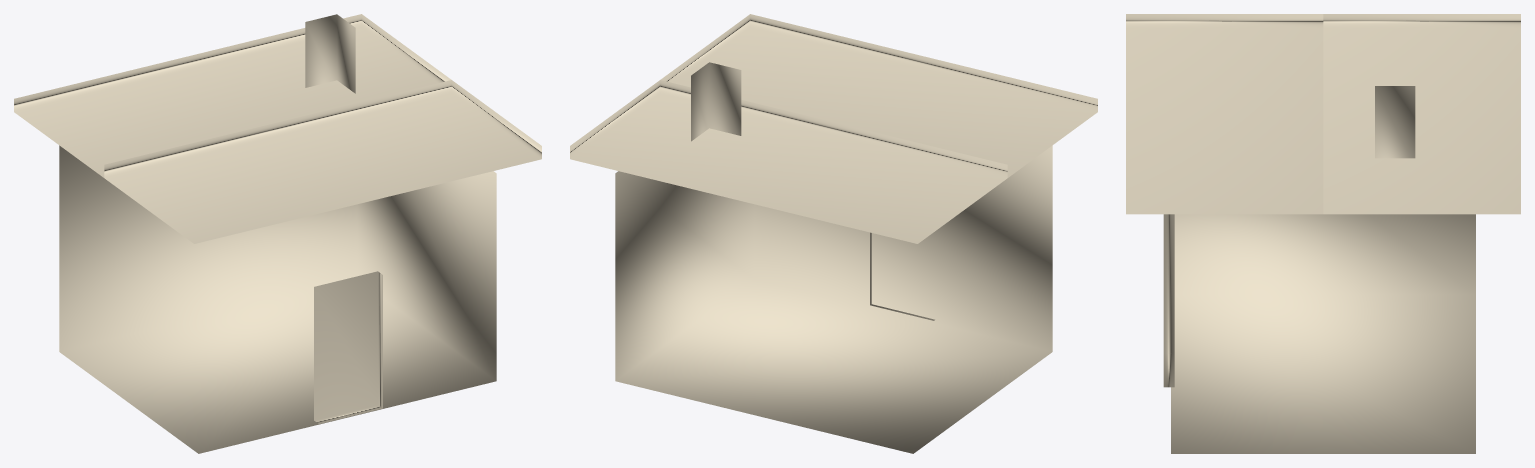
Rendered from house-alpine.glb.
3 views of the same model, side by side, from view 1: azimuth 30°, elevation 25°; view 2: azimuth 150°, elevation 25°; view 3: azimuth 270°, elevation 25° (orthographic). The views are drawn at different scales.
Parts seen in each view (by area): view 1: house-alpine; view 2: house-alpine; view 3: house-alpine.
Part boxes in pixels (x1,y1,x2,y2): house-alpine: (14,14,541,453); house-alpine: (570,14,1097,453); house-alpine: (1126,14,1520,453).
Bounding box in the file's own units: 4.9 × 4 × 4.4.
